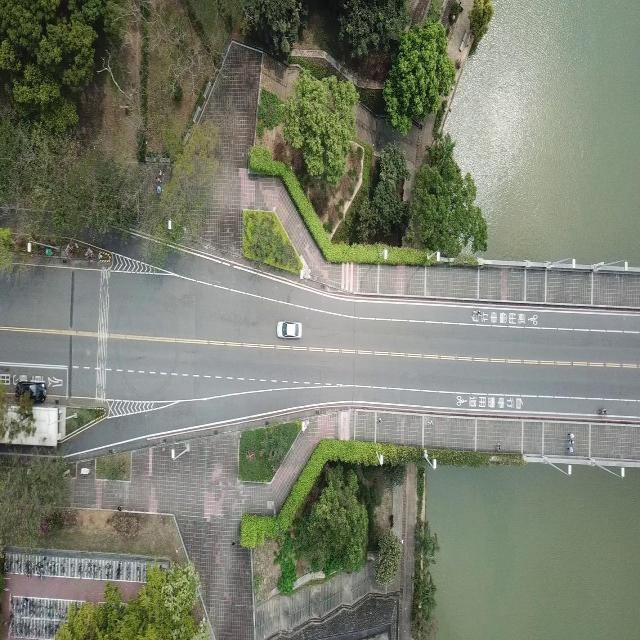car: (276, 319, 302, 339)
